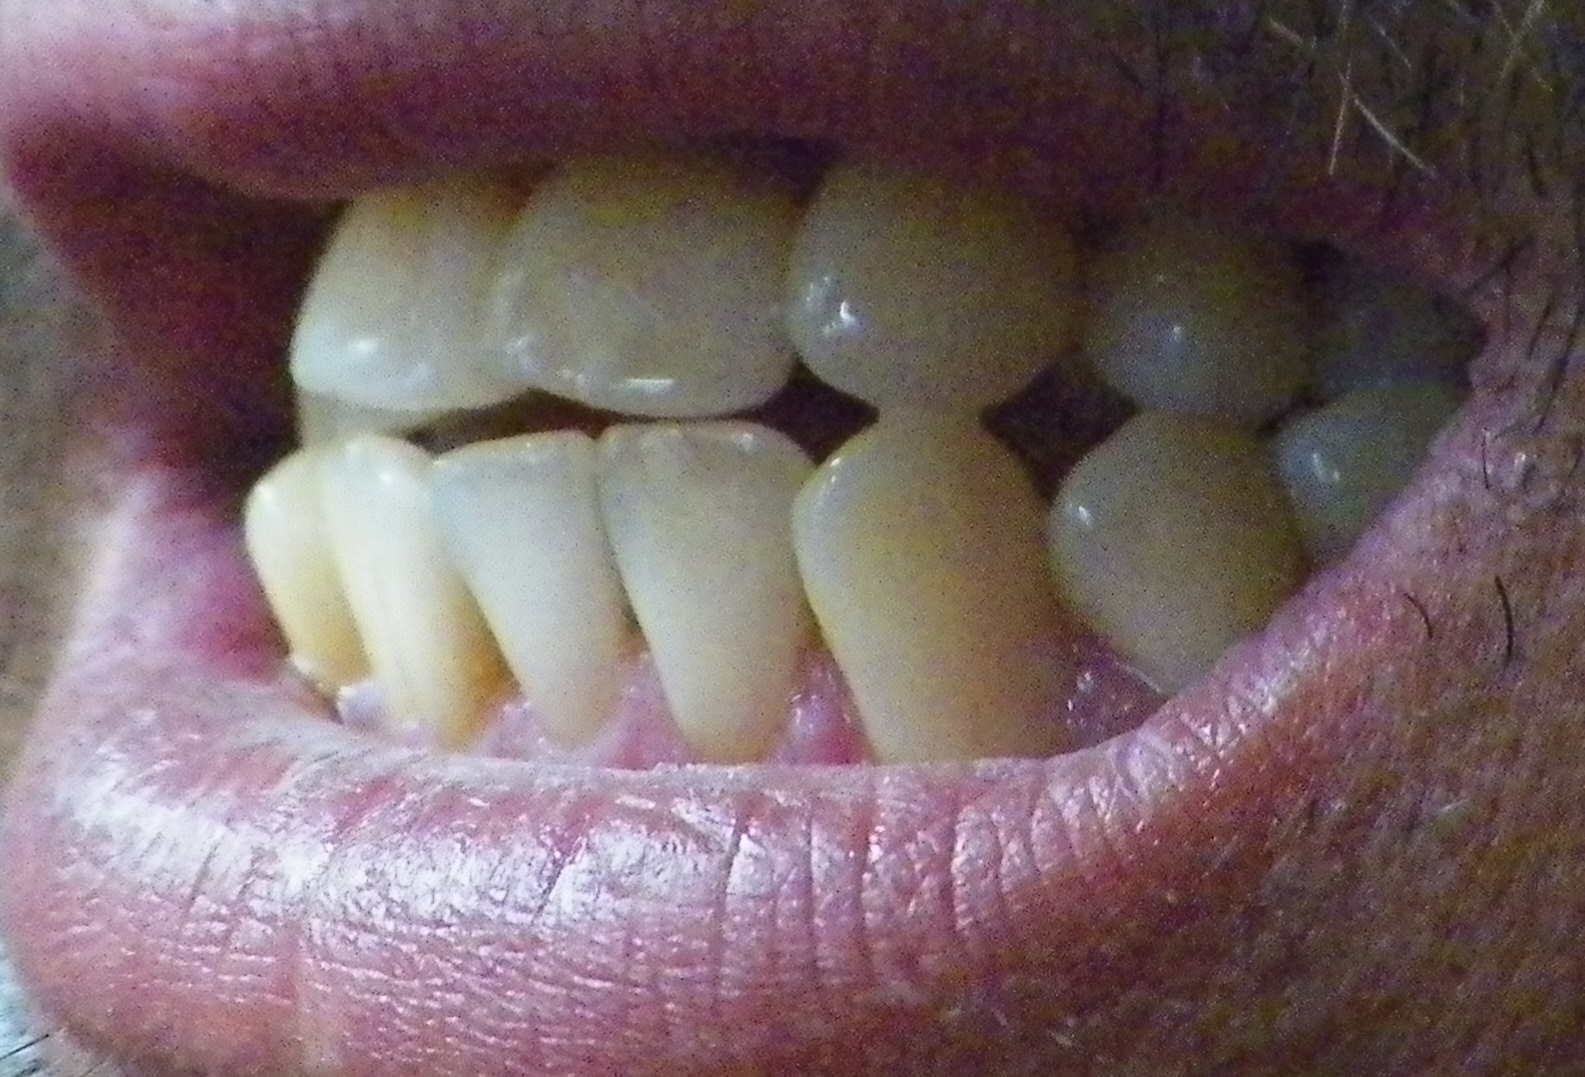boca: (243, 180, 1321, 754)
